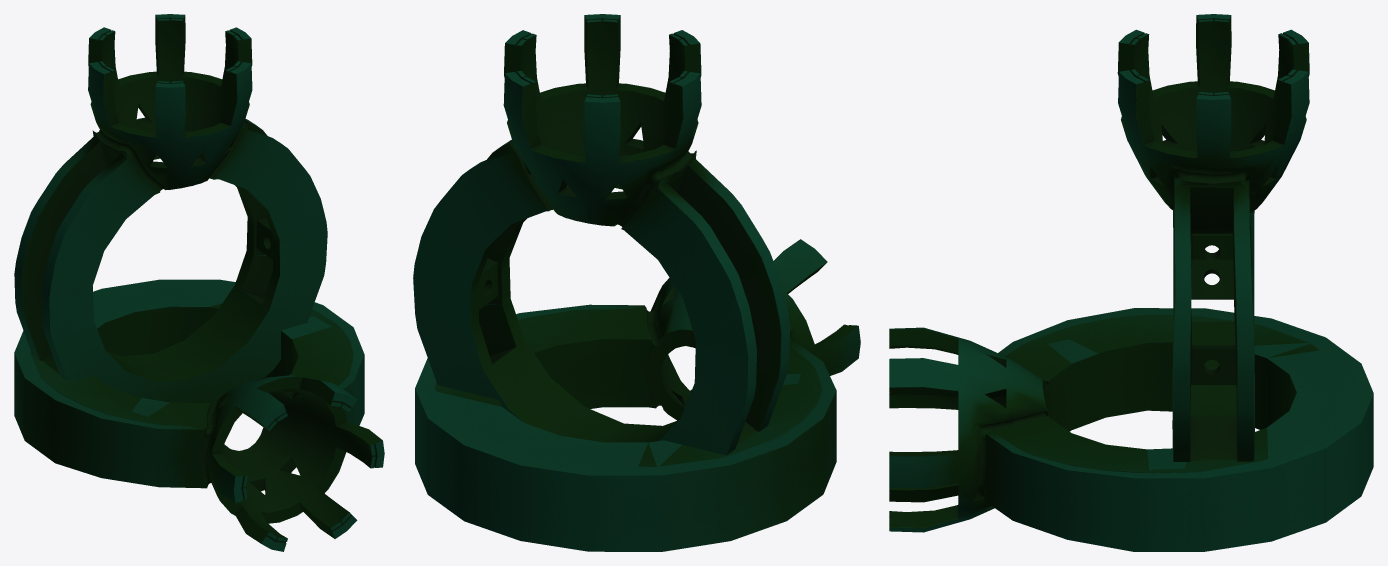
3 renders of one model, left to right at view 1: azimuth 30°, elevation 25°; view 2: azimuth 150°, elevation 25°; view 3: azimuth 270°, elevation 25°, orthographic. The views are drawn at different scales.
Visible parts, largest first — view 1: 214_DiaoLa_ChuLi002, 214_DiaoLa_ChuLi, 214_DiaoLa_ChuLi001; view 2: 214_DiaoLa_ChuLi002, 214_DiaoLa_ChuLi, 214_DiaoLa_ChuLi001; view 3: 214_DiaoLa_ChuLi, 214_DiaoLa_ChuLi002, 214_DiaoLa_ChuLi001.
Part boxes in pixels (x1=…): 214_DiaoLa_ChuLi002: x1=14, y1=14, x2=327, y2=406; 214_DiaoLa_ChuLi: x1=14, y1=279, x2=384, y2=551; 214_DiaoLa_ChuLi001: x1=30, y1=303, x2=353, y2=484; 214_DiaoLa_ChuLi002: x1=413, y1=14, x2=790, y2=455; 214_DiaoLa_ChuLi: x1=415, y1=239, x2=860, y2=551; 214_DiaoLa_ChuLi001: x1=434, y1=306, x2=822, y2=466; 214_DiaoLa_ChuLi: x1=889, y1=308, x2=1373, y2=551; 214_DiaoLa_ChuLi002: x1=1117, y1=14, x2=1309, y2=461; 214_DiaoLa_ChuLi001: x1=986, y1=314, x2=1319, y2=473.
Bounding box in the file's own units: 2.36 × 2.98 × 2.85.
Materials: 1 (1 with a texture image).
